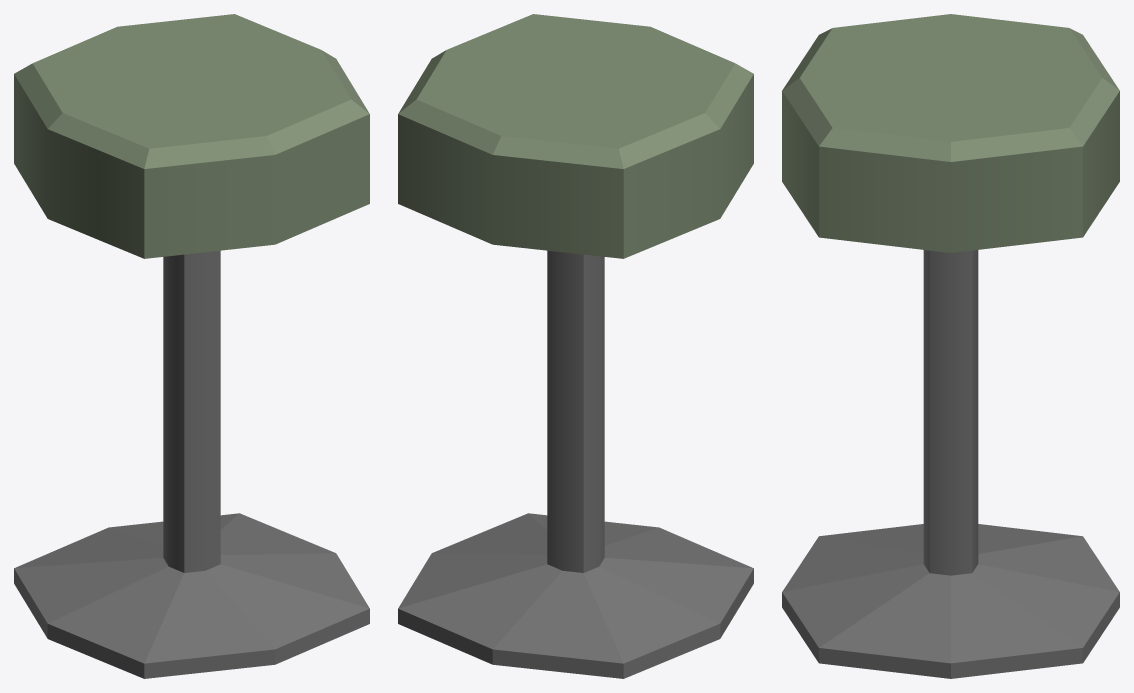
File: Stool.fbx
3 views of the same model, side by side, from view 1: azimuth 30°, elevation 25°; view 2: azimuth 150°, elevation 25°; view 3: azimuth 270°, elevation 25° (orthographic).
Visible parts, largest first — view 1: Stool; view 2: Stool; view 3: Stool.
Boxes of the visible parts, x1,y1,x2,y2 form: Stool: [14, 14, 369, 678]; Stool: [398, 14, 753, 678]; Stool: [782, 14, 1119, 678].
Size of the model in its own units: 20.65 by 35.72 by 20.65.
